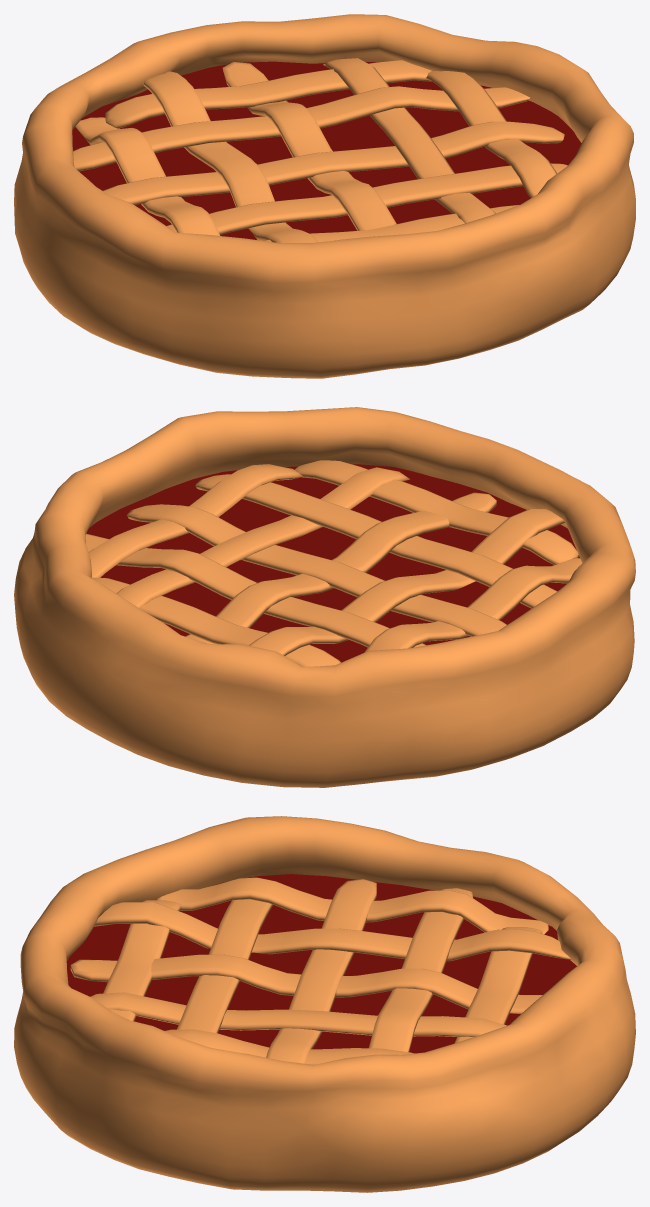
File: pie_crambery.fbx
3 renders of one model, top to bottom at view 1: azimuth 30°, elevation 25°; view 2: azimuth 150°, elevation 25°; view 3: azimuth 270°, elevation 25°, orthographic.
Visible parts, largest first — view 1: pie_bottom_high:Group28634, pDisc1, pie_bottom_high:pCube14, pCube6, pie_bottom_high:pCube12, pCube10, pCube1, pCube7, pCube8, pCube11, pCube9, pie_bottom_high:pCube13; view 2: pie_bottom_high:Group28634, pDisc1, pie_bottom_high:pCube14, pCube10, pie_bottom_high:pCube12, pCube1, pCube6, pCube8, pie_bottom_high:pCube13, pCube9, pCube11, pCube7; view 3: pie_bottom_high:Group28634, pDisc1, pCube10, pCube1, pCube11, pCube8, pie_bottom_high:pCube14, pCube6, pie_bottom_high:pCube12, pie_bottom_high:pCube13, pCube7, pCube9.
Boxes of the visible parts, box(x1,y1,x2,y2) form: pie_bottom_high:Group28634: box(14, 14, 635, 378); pDisc1: box(72, 61, 581, 239); pie_bottom_high:pCube14: box(103, 121, 564, 204); pCube6: box(73, 86, 529, 171); pie_bottom_high:pCube12: box(167, 163, 567, 234); pCube10: box(143, 71, 317, 242); pCube1: box(222, 62, 396, 230); pCube7: box(105, 60, 431, 128); pCube8: box(323, 58, 495, 223); pCube11: box(75, 117, 220, 235); pCube9: box(426, 70, 556, 197); pie_bottom_high:pCube13: box(263, 205, 519, 242); pie_bottom_high:Group28634: box(14, 407, 635, 787); pDisc1: box(86, 464, 579, 662); pie_bottom_high:pCube14: box(126, 504, 506, 636); pCube10: box(249, 509, 565, 655); pie_bottom_high:pCube12: box(195, 474, 557, 608); pCube1: box(185, 492, 496, 644); pCube6: box(85, 533, 425, 647); pCube8: box(116, 467, 409, 608); pie_bottom_high:pCube13: box(294, 460, 578, 564); pCube9: box(88, 464, 303, 577); pCube11: box(364, 557, 582, 652); pCube7: box(91, 577, 340, 666); pie_bottom_high:Group28634: box(14, 816, 635, 1192); pDisc1: box(66, 874, 576, 1053); pCube10: box(94, 902, 571, 961); pCube1: box(70, 954, 542, 1013); pCube11: box(157, 877, 548, 934); pCube8: box(90, 992, 506, 1036); pie_bottom_high:pCube14: box(266, 879, 376, 1063); pCube6: box(369, 888, 472, 1052); pie_bottom_high:pCube12: box(177, 899, 272, 1033); pie_bottom_high:pCube13: box(103, 900, 181, 1021); pCube7: box(455, 927, 542, 1043); pCube9: box(165, 1029, 414, 1064).
Size of the model in its own units: 18.35 by 4.72 by 17.94.
